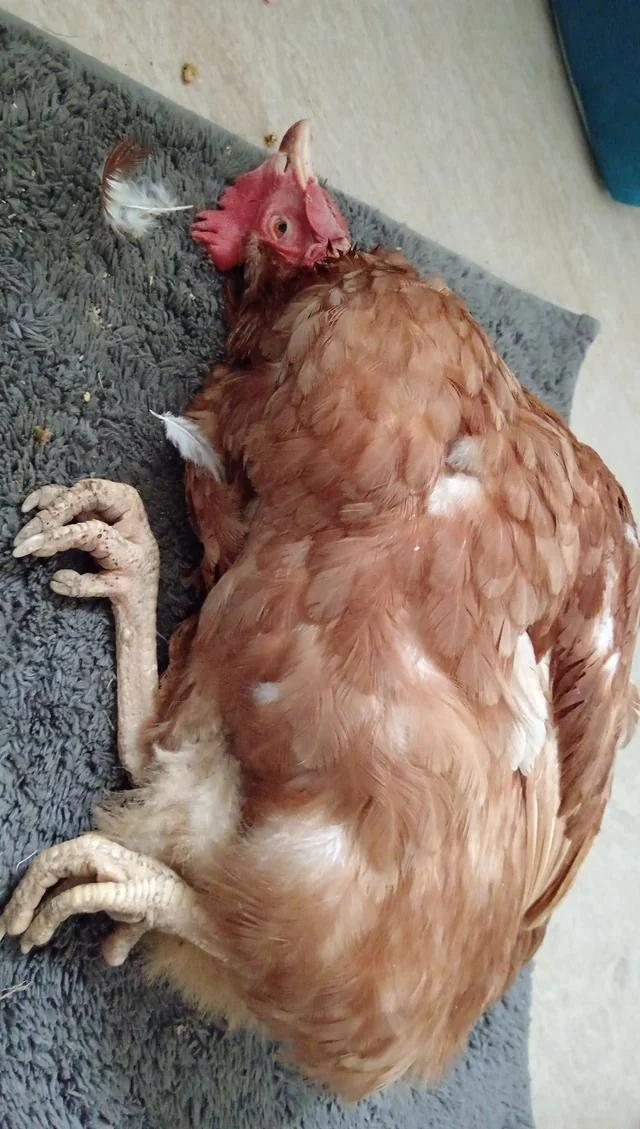AbNormal: (15, 125, 640, 1089)
